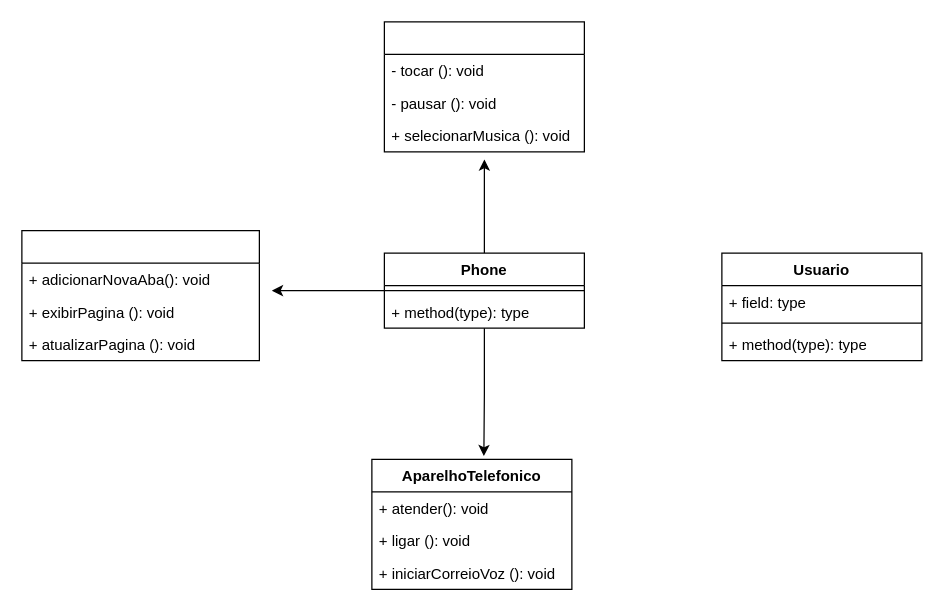
This 944x615 diagram has some shape labels left out. The box of each missing label's shape, as (x1, y1, x2, y2) in pixels:
NavegadorInternet: (21, 229, 259, 361)
ReprodutorMusical: (383, 21, 584, 152)
